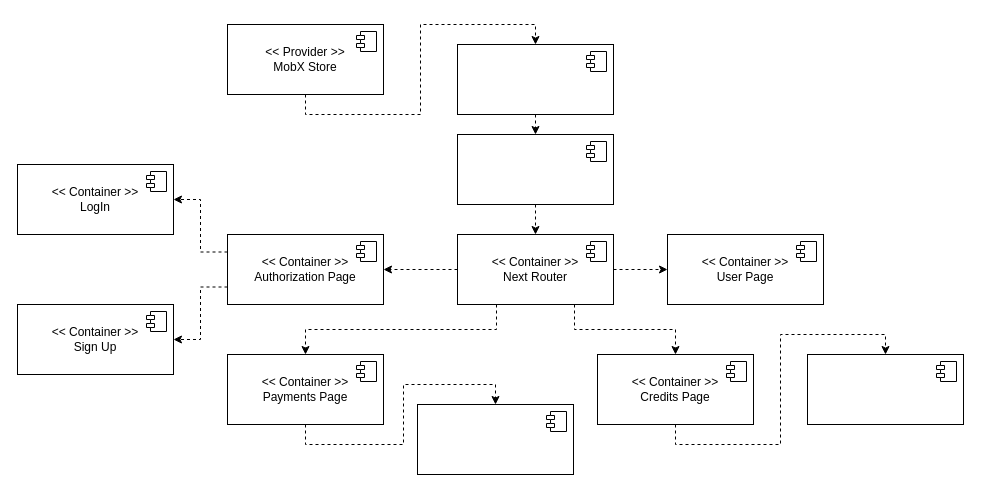
The diagram is 981 pixels wide and 492 high, and some of its shapes have lost their labels. The shapes that lost their labels are listed below. From the top down, each one's centre as x and y in pixels, then its label:
the point at 535,79: << Container >> App
the point at 535,169: << Container >> Next Layout
the point at 885,389: << Component >> Loan calculator
the point at 495,439: << Component >> Payment via QR
